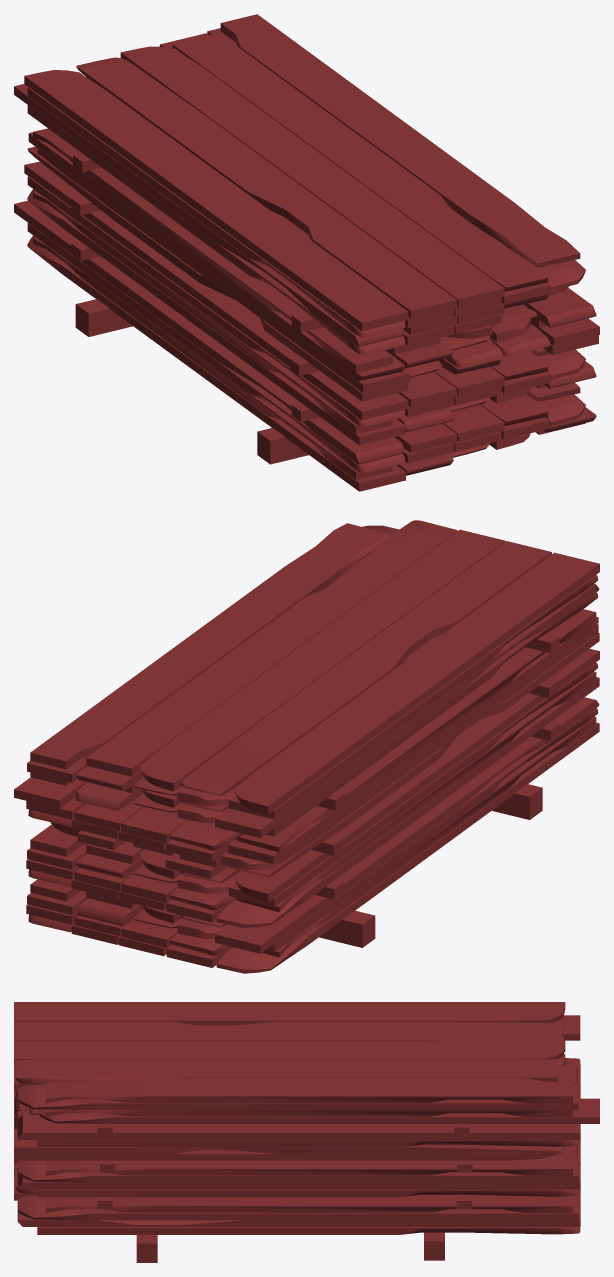
Rendered from SM_WoodPlankPack12.fbx.
3 views of the same model, one above another, from view 1: azimuth 30°, elevation 25°; view 2: azimuth 150°, elevation 25°; view 3: azimuth 270°, elevation 25° (orthographic). The views are drawn at different scales.
Parts seen in each view (by area): view 1: WoodPlankPack12; view 2: WoodPlankPack12; view 3: WoodPlankPack12.
Part boxes in pixels (x1,y1,x2,y2): WoodPlankPack12: [14, 14, 599, 491]; WoodPlankPack12: [14, 520, 599, 973]; WoodPlankPack12: [14, 1002, 599, 1262].
Size of the model in its own units: 91.85 by 59.93 by 202.
